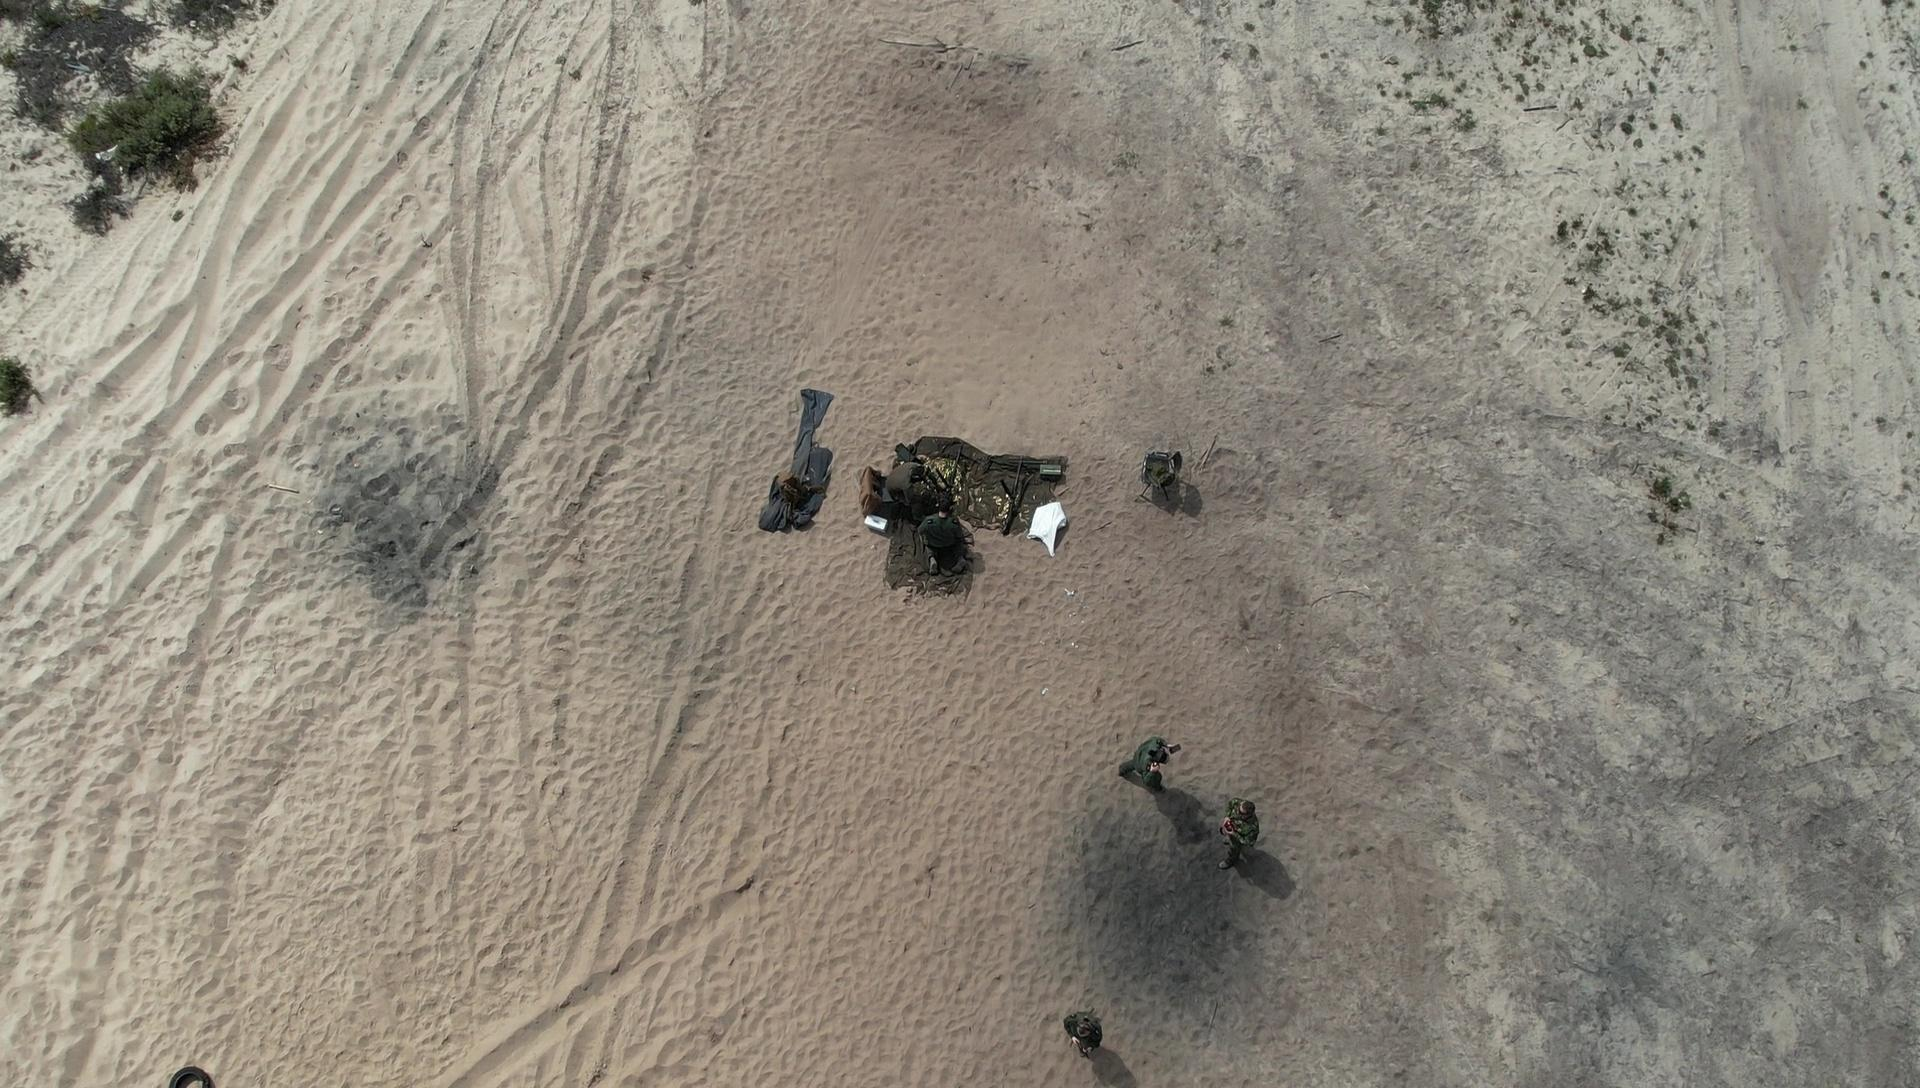Soldier: (909, 488, 976, 596), (1207, 785, 1276, 886), (1114, 719, 1188, 806), (1048, 990, 1116, 1072), (880, 448, 927, 510)
